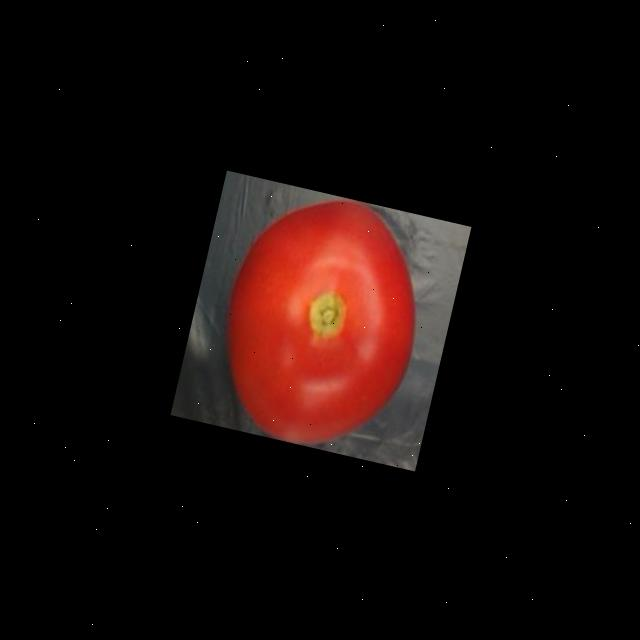tomato: (197, 176, 445, 464)
